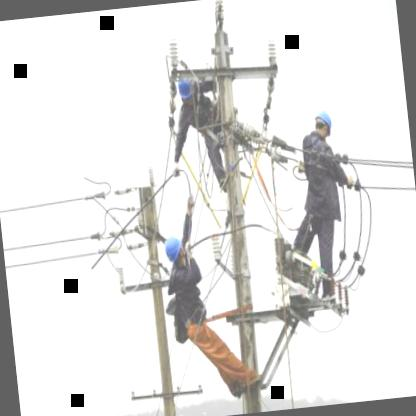helmet: (174, 67, 200, 103), (312, 105, 336, 138), (164, 231, 186, 264)
